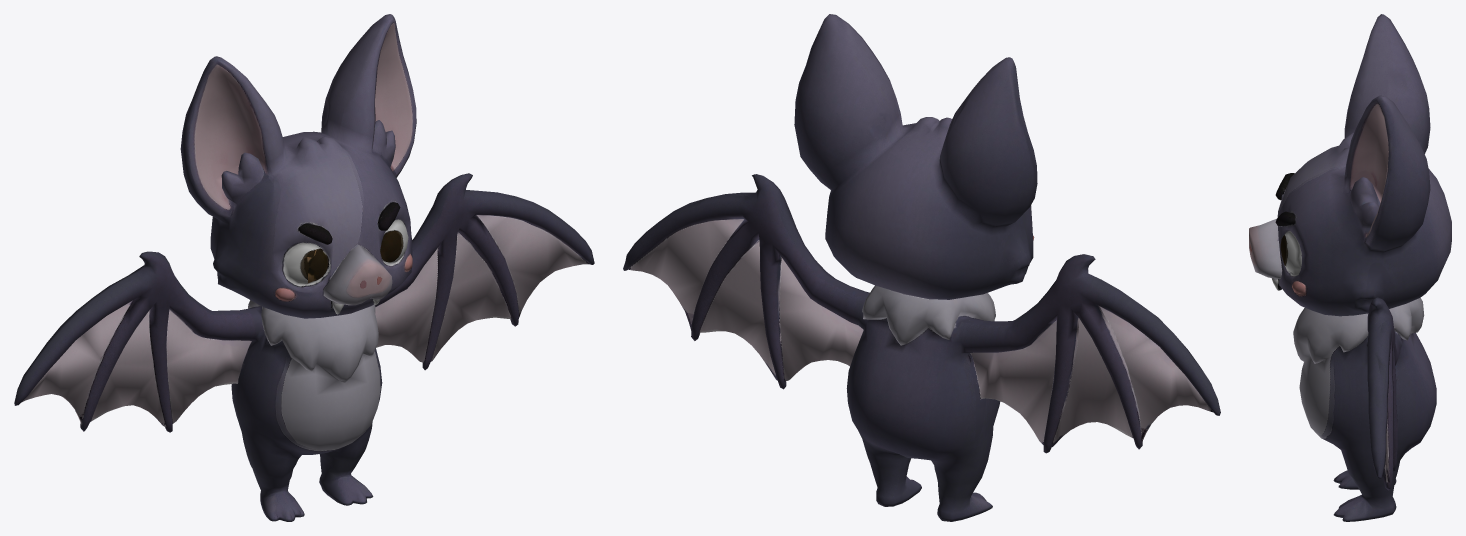
Rendered from tripo_convert_41e67612-16e4-45ec-bd13-bfed2bea762d.fbx.
3 renders of one model, left to right at view 1: azimuth 30°, elevation 25°; view 2: azimuth 150°, elevation 25°; view 3: azimuth 270°, elevation 25°, orthographic. The views are drawn at different scales.
Parts seen in each view (by area): view 1: tripo_node_41e67612; view 2: tripo_node_41e67612; view 3: tripo_node_41e67612.
Boxes of the visible parts, box(x1,y1,x2,y2) form: tripo_node_41e67612: box(14, 14, 594, 521); tripo_node_41e67612: box(623, 14, 1220, 521); tripo_node_41e67612: box(1249, 14, 1451, 521).
Bounding box in the file's own units: 99.8 × 31.45 × 75.59.
Materials: 1 (1 with a texture image).
